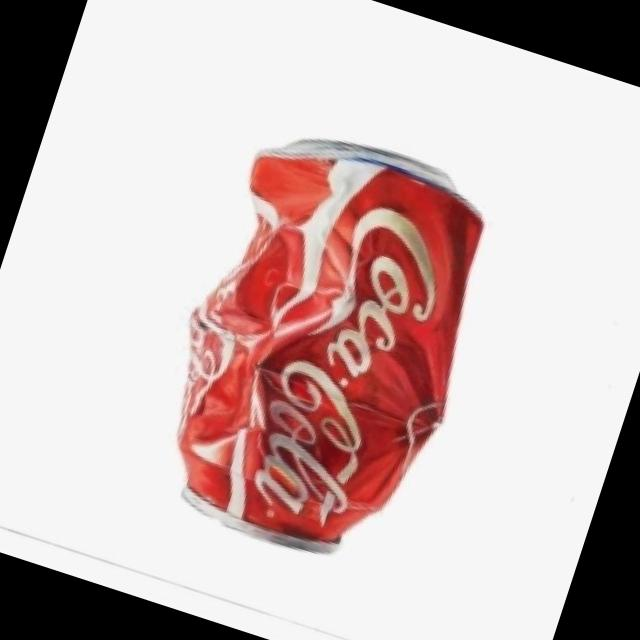Kaleng: (131, 110, 518, 586)
